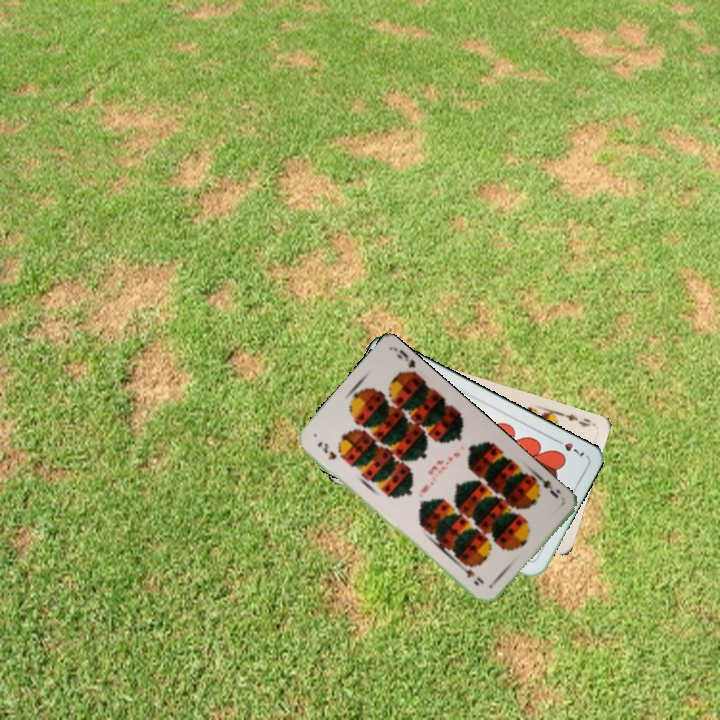E9: (557, 409, 596, 430)
H7: (550, 435, 587, 459)
S9: (530, 470, 561, 501), (313, 437, 339, 463)
